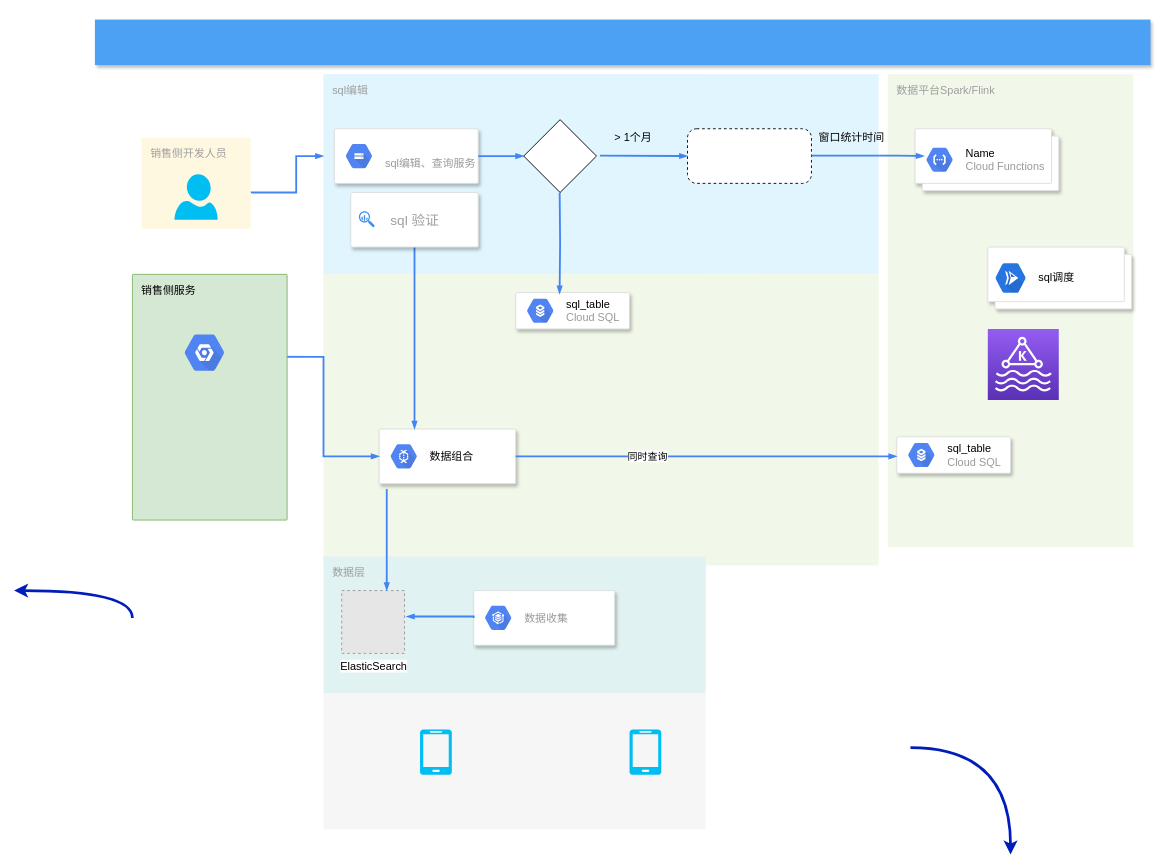
Some shapes in this 1171 by 868 pixel diagram are drawn without their labels. Grey dashed boxes stand in for pictures. Each missing label, with the centre of its shape:
Flow & Interactive: the point at 623,43
人工审查/修改: the point at 749,155
窗口时间: the point at 560,155
统计查询: the point at 600,419
